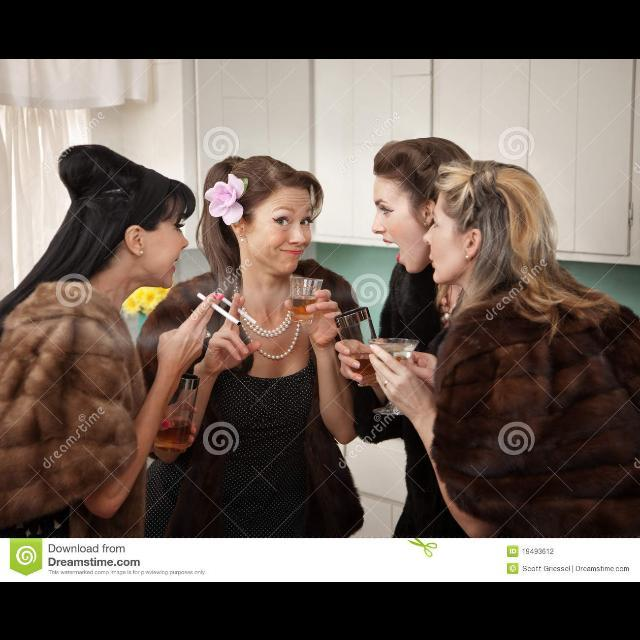rokok: (194, 290, 248, 326)
